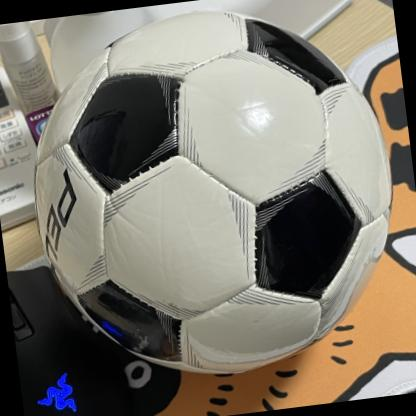ball: (10, 0, 416, 396)
